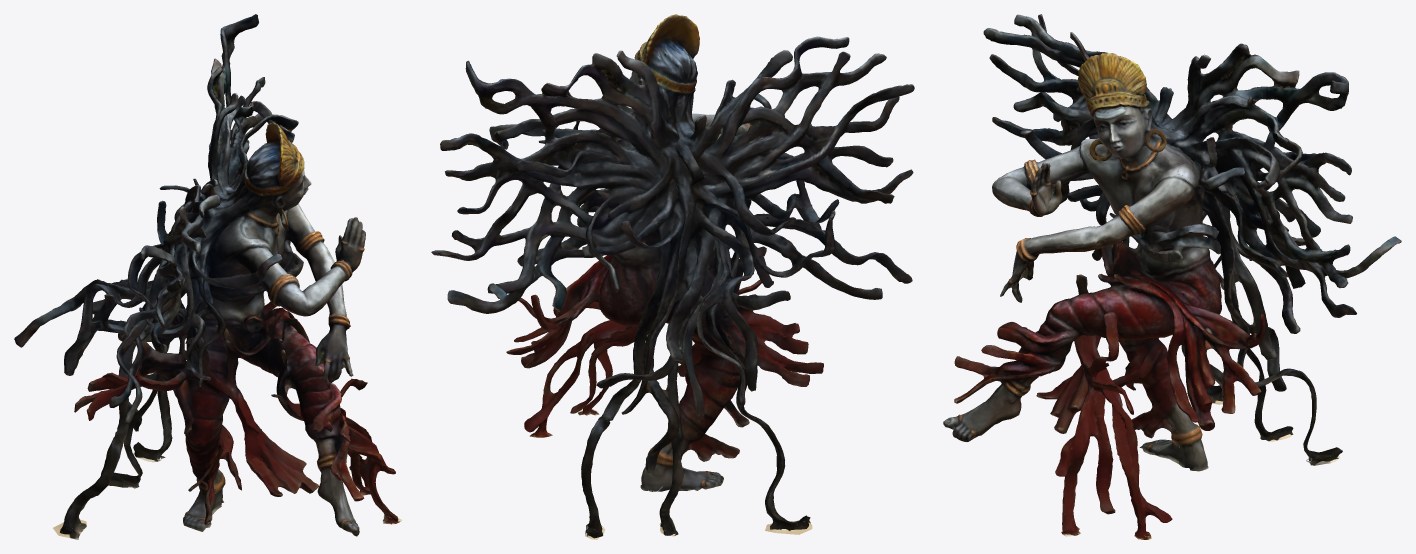
The model's file is DancingShivaHero.glb.
3 views of the same model, side by side, from view 1: azimuth 30°, elevation 25°; view 2: azimuth 150°, elevation 25°; view 3: azimuth 270°, elevation 25° (orthographic). The views are drawn at different scales.
Visible parts, largest first — view 1: DancingShiva_export; view 2: DancingShiva_export; view 3: DancingShiva_export.
Boxes of the visible parts, x1,y1,x2,y2 form: DancingShiva_export: (14, 14, 402, 539); DancingShiva_export: (431, 14, 914, 539); DancingShiva_export: (943, 14, 1401, 539).
Size of the model in its own units: 4.13 by 5.5 by 5.13.
1 material, 1 textured.
